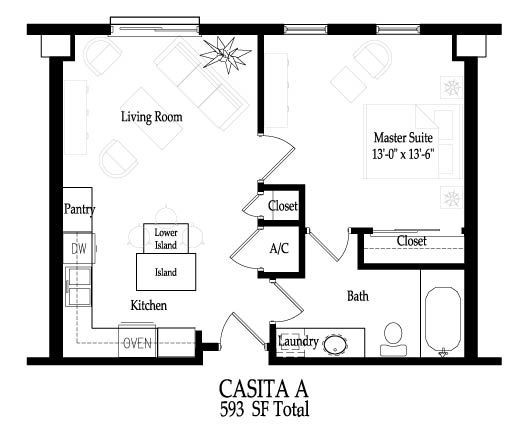door: (220, 223, 274, 275), (217, 306, 269, 357), (249, 129, 300, 181), (262, 279, 314, 327), (306, 223, 358, 270), (238, 182, 270, 222)
room: (45, 30, 265, 366), (261, 27, 465, 195), (261, 276, 475, 364), (358, 229, 470, 265), (259, 219, 306, 281), (259, 185, 303, 224)
wall: (451, 23, 486, 370), (41, 54, 70, 370), (264, 353, 511, 373), (27, 350, 209, 374), (418, 11, 505, 44), (354, 259, 485, 278), (200, 15, 288, 43), (250, 23, 270, 138), (27, 18, 112, 41), (327, 15, 379, 51), (294, 181, 310, 285), (257, 216, 310, 234), (257, 265, 310, 282), (257, 181, 307, 199), (353, 220, 369, 272), (263, 324, 281, 369), (192, 329, 210, 369), (350, 226, 376, 237)
window: (110, 16, 203, 47), (283, 17, 330, 48), (375, 16, 421, 46)
